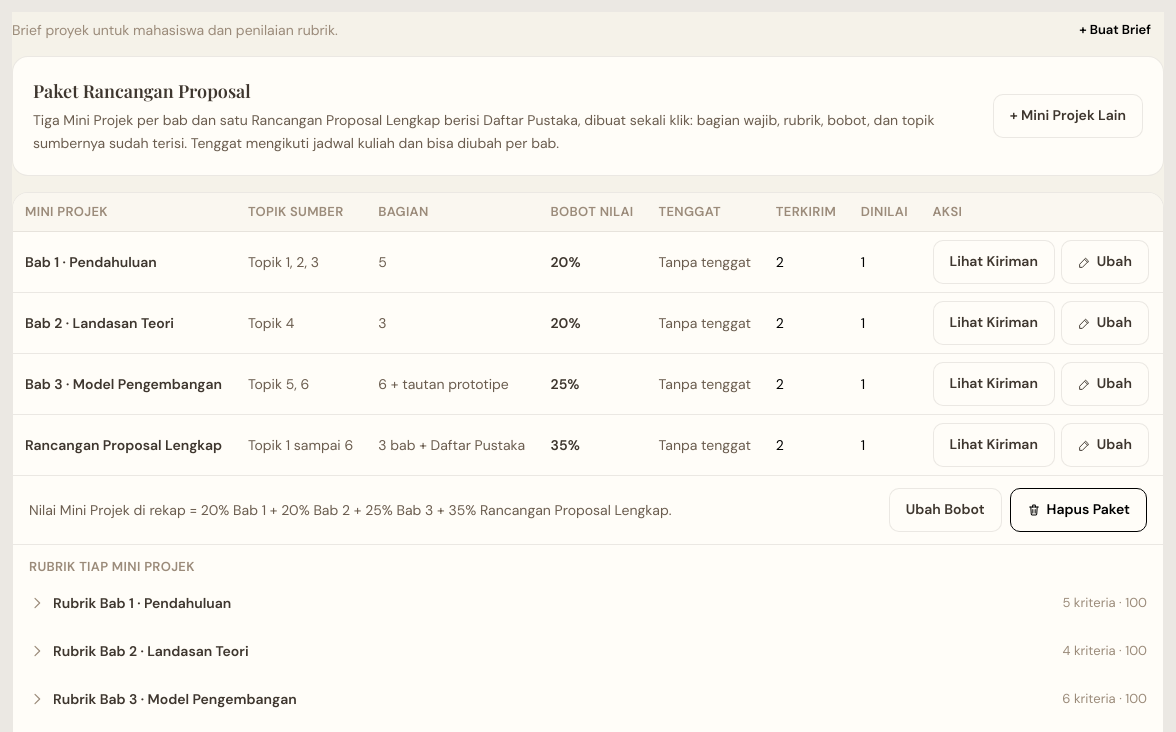
Test: TugasAkhirPanel — Paket Rancangan Proposal › modal Ubah Bobot menolak simpan saat jumlah bukan 100
Click the button "Ubah Bobot" at (945, 510), box [889,488,1002,532]
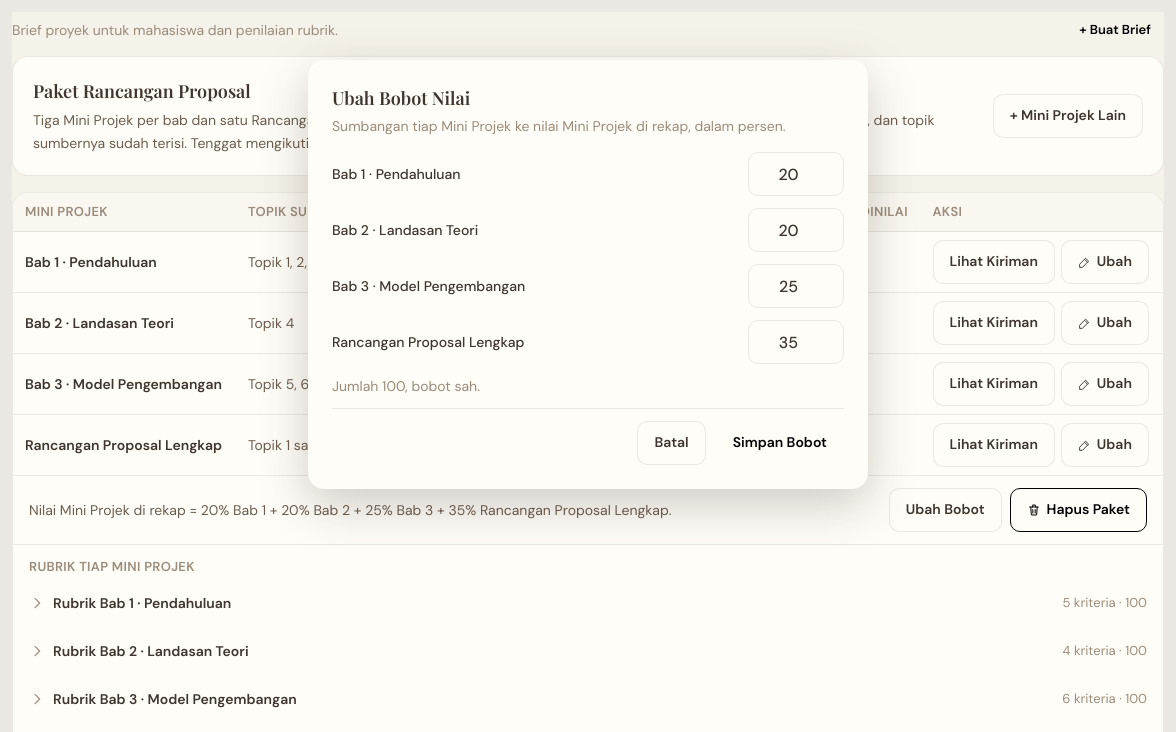
Check: the button "Simpan Bobot" is enabled, box [716,421,844,465]
Replace the text in the number field named "Bobot Bab 1 · Pendahuluan" with "30" at (796, 174), box [748,152,844,196]
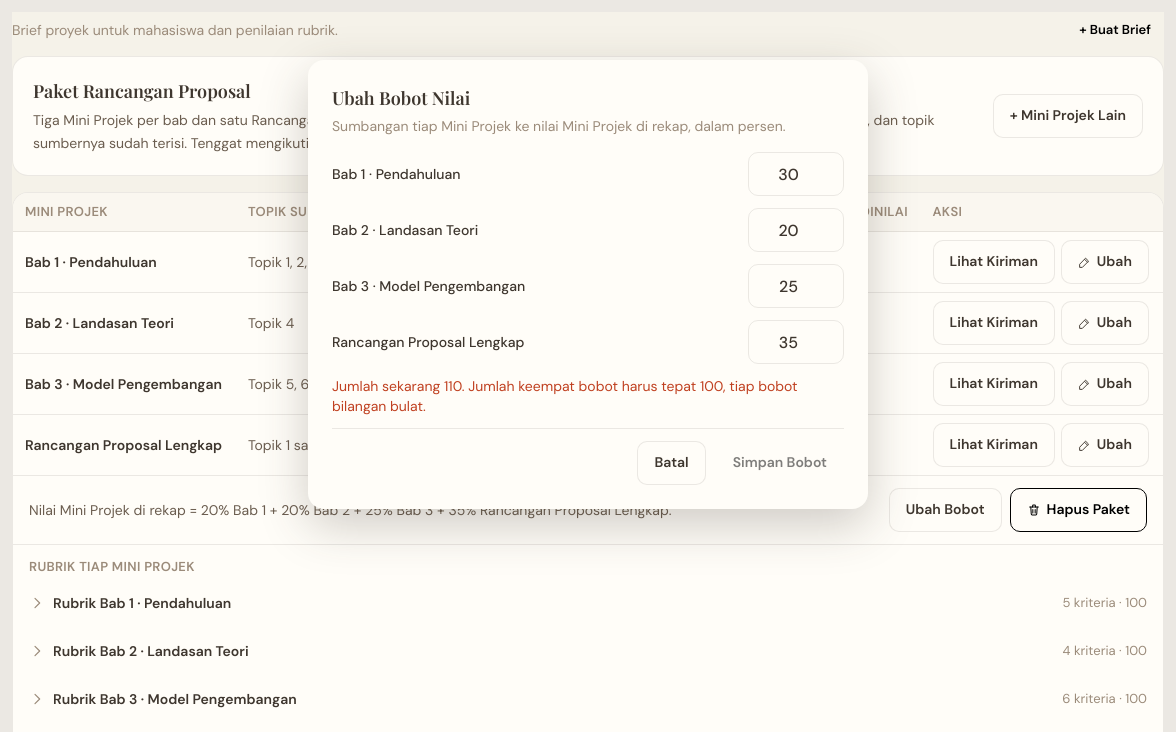
Check: the button "Simpan Bobot" is disabled, box [716,441,844,485]
Check: the text "Jumlah sekarang 110" is shown, box [332,377,798,415]
Replace the text in the number field named "Bobot Bab 2 · Landasan Teori" with "10" at (796, 230), box [748,208,844,252]
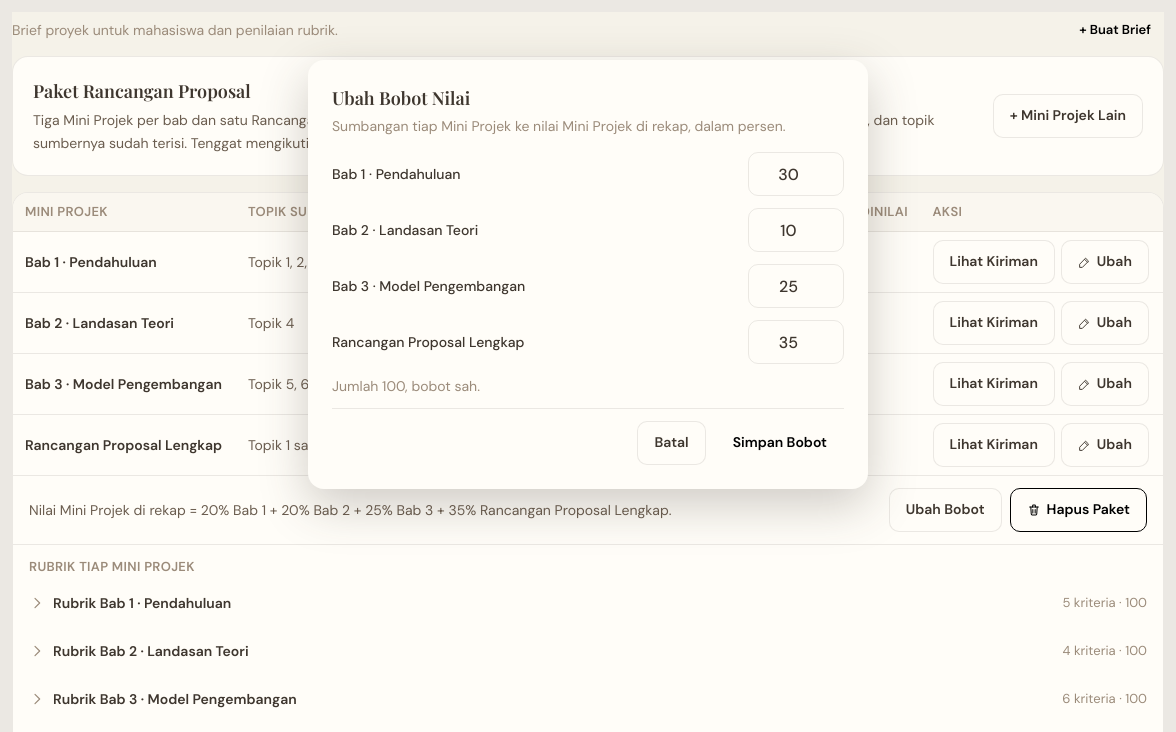
Check: the button "Simpan Bobot" is enabled, box [716,421,844,465]
